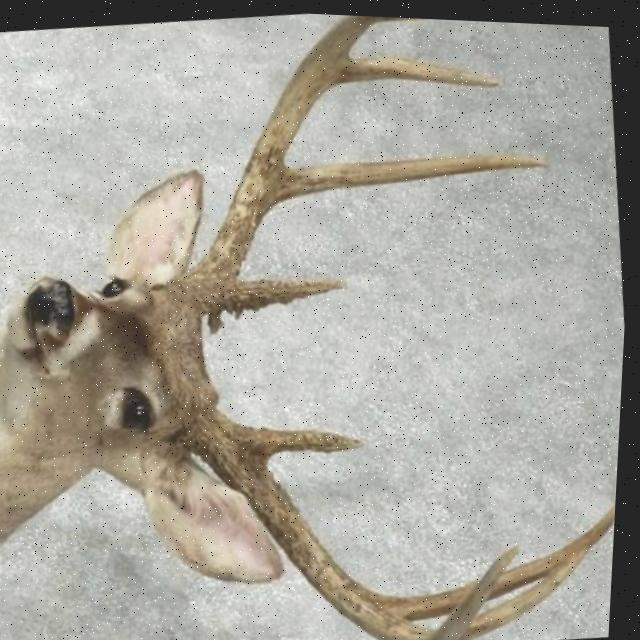L-F: (188, 12, 426, 325)
L-G1: (226, 275, 347, 318)
L-G2: (278, 149, 552, 199)
L-G3: (337, 52, 501, 84)
R-F: (197, 403, 524, 640)
R-G1: (244, 421, 368, 458)
